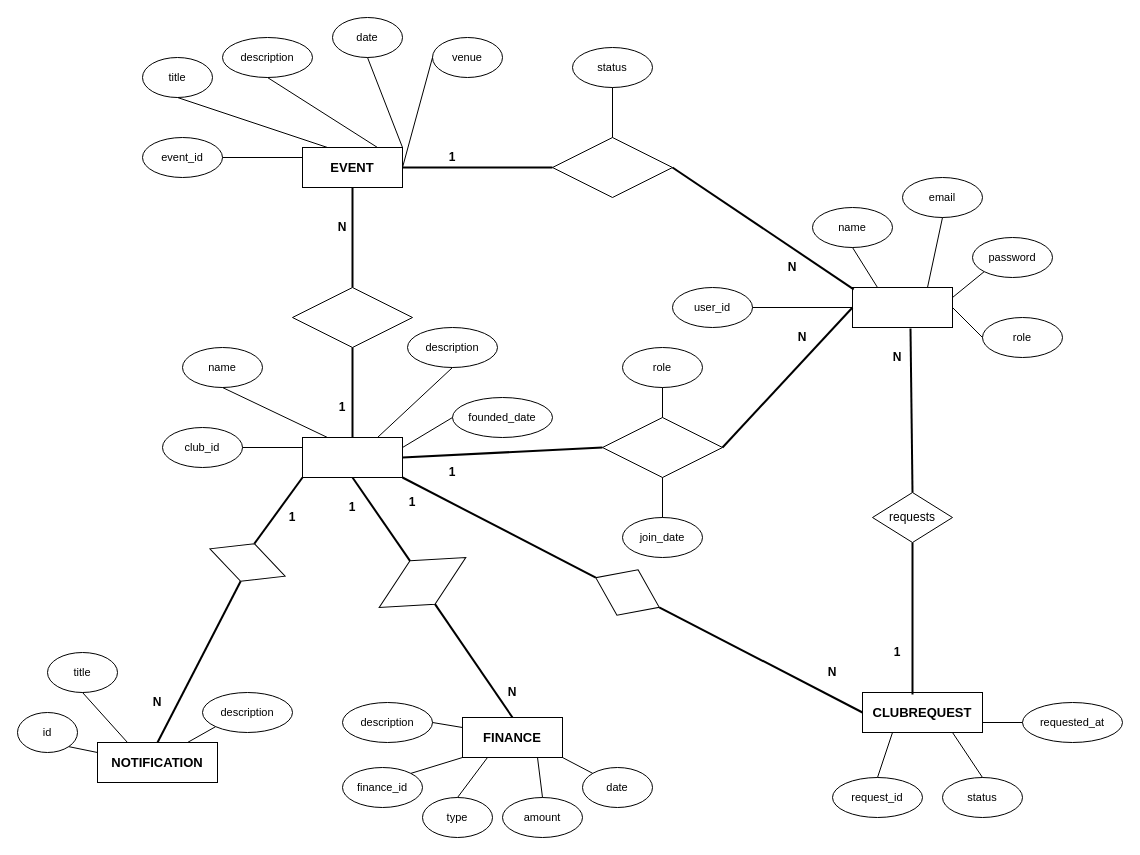
This 1140x855 diagram has some shape labels left out. The centre of each missing label's shape, as x and y in pixels:
"CLUB" belongs at point (352, 457).
"for" belongs at point (627, 592).
"hosts" belongs at point (352, 317).
"manages" belongs at point (422, 582).
"MEMBERSHIP" belongs at point (662, 447).
"REGISTRATION" belongs at point (612, 167).
"sends" belongs at point (247, 562).
"USER" belongs at point (902, 307).
